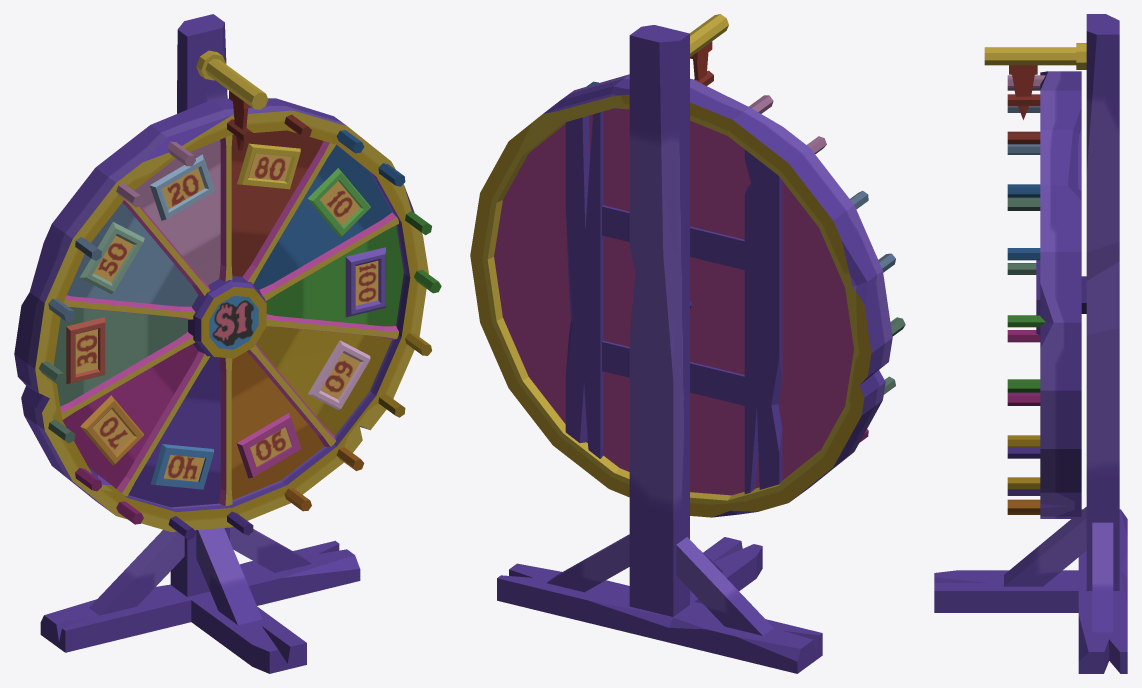
The model's file is Wheel.fbx.
The picture shows the model from 3 angles, left to right: view 1: azimuth 30°, elevation 25°; view 2: azimuth 150°, elevation 25°; view 3: azimuth 270°, elevation 25°; orthographic projection. The views are drawn at different scales.
Visible parts, largest first — view 1: SM_Prop_Prize_Wheel_01_Wheel_01, Wheel, SM_Prop_Prize_Wheel_01_Ticker_01; view 2: SM_Prop_Prize_Wheel_01_Wheel_01, Wheel, SM_Prop_Prize_Wheel_01_Ticker_01; view 3: Wheel, SM_Prop_Prize_Wheel_01_Wheel_01, SM_Prop_Prize_Wheel_01_Ticker_01.
Part boxes in pixels (x1,y1,x2,y2): SM_Prop_Prize_Wheel_01_Wheel_01: (14, 98, 441, 539); Wheel: (40, 14, 360, 673); SM_Prop_Prize_Wheel_01_Ticker_01: (196, 50, 268, 150); SM_Prop_Prize_Wheel_01_Wheel_01: (470, 70, 905, 517); Wheel: (497, 25, 822, 673); SM_Prop_Prize_Wheel_01_Ticker_01: (690, 14, 728, 80); Wheel: (934, 14, 1127, 673); SM_Prop_Prize_Wheel_01_Wheel_01: (1007, 71, 1081, 518); SM_Prop_Prize_Wheel_01_Ticker_01: (984, 43, 1086, 119).
Bounding box in the file's own units: 178 × 251 × 76.29.
1 material, 1 textured.
